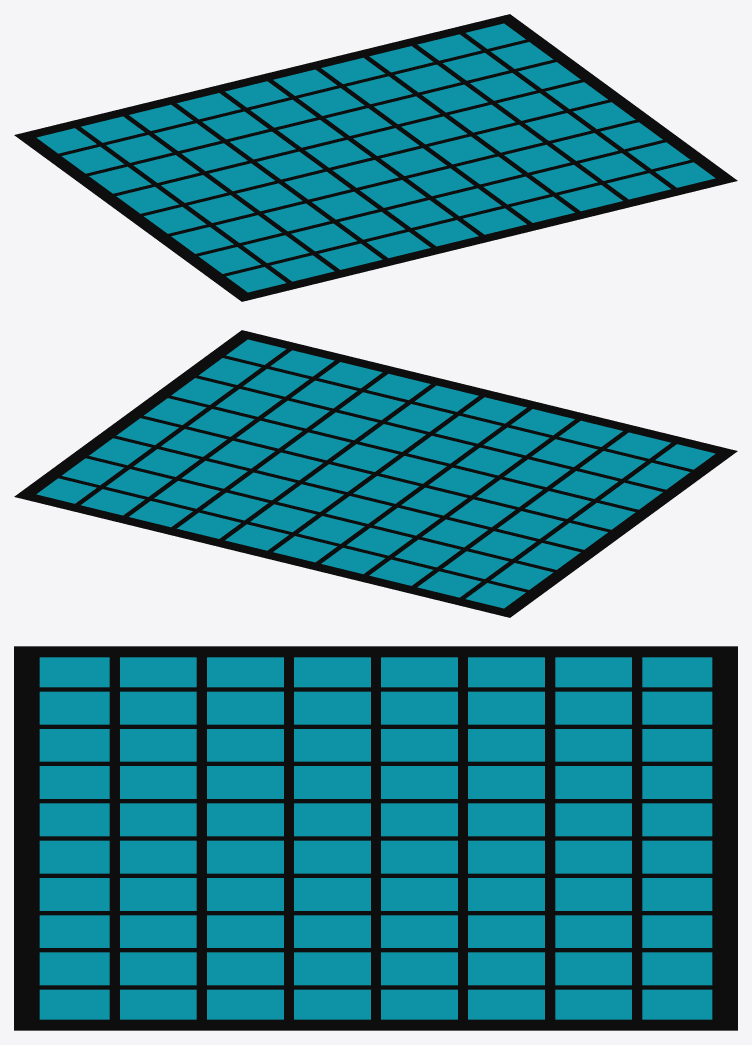
The model's file is phonghoc.fbx.
3 views of the same model, one above another, from view 1: azimuth 30°, elevation 25°; view 2: azimuth 150°, elevation 25°; view 3: azimuth 270°, elevation 25° (orthographic). The views are drawn at different scales.
Visible parts, largest first — view 1: phonghoc; view 2: phonghoc; view 3: phonghoc.
Part boxes in pixels (x1,y1,x2,y2): phonghoc: (14, 14, 737, 301); phonghoc: (14, 330, 737, 617); phonghoc: (14, 646, 737, 1030).
Size of the model in its own units: 3920 by 5.15e-05 by 3120.
